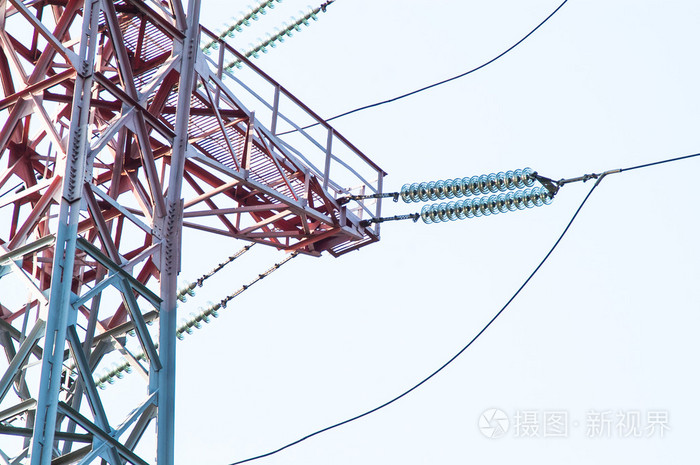insulator: (93, 299, 229, 385), (401, 169, 556, 219), (204, 1, 319, 65)
